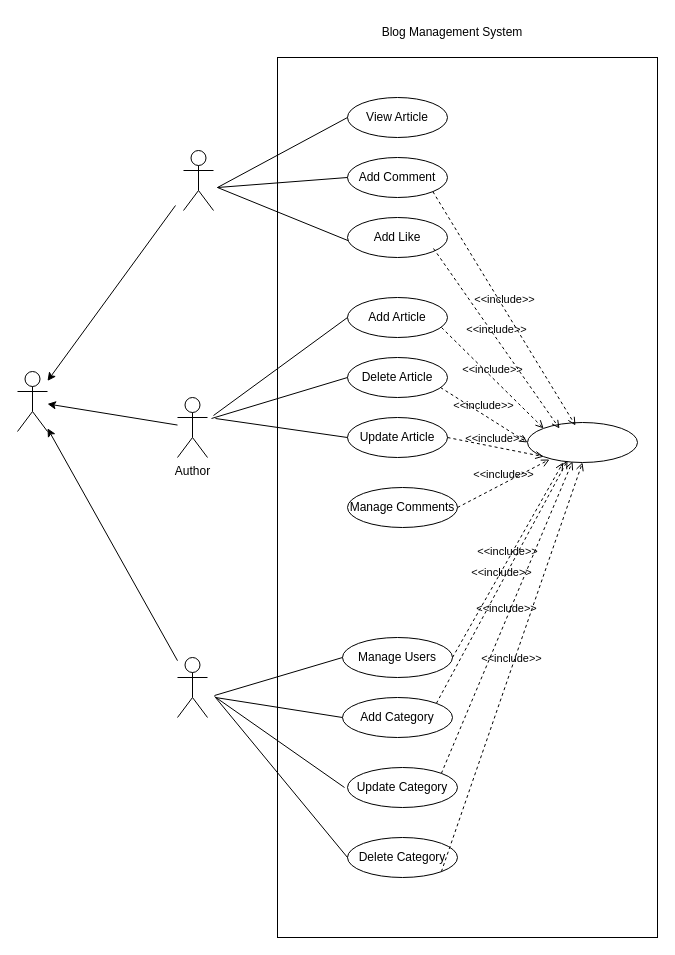
The diagram is 675 pixels wide and 955 high, and some of its shapes have lost their labels. Here are the shapes that lost their labels. From the top down, the centre of each, then its label:
pixel 198 180: Reader
pixel 32 401: User
pixel 582 442: Login
pixel 192 687: Admin
